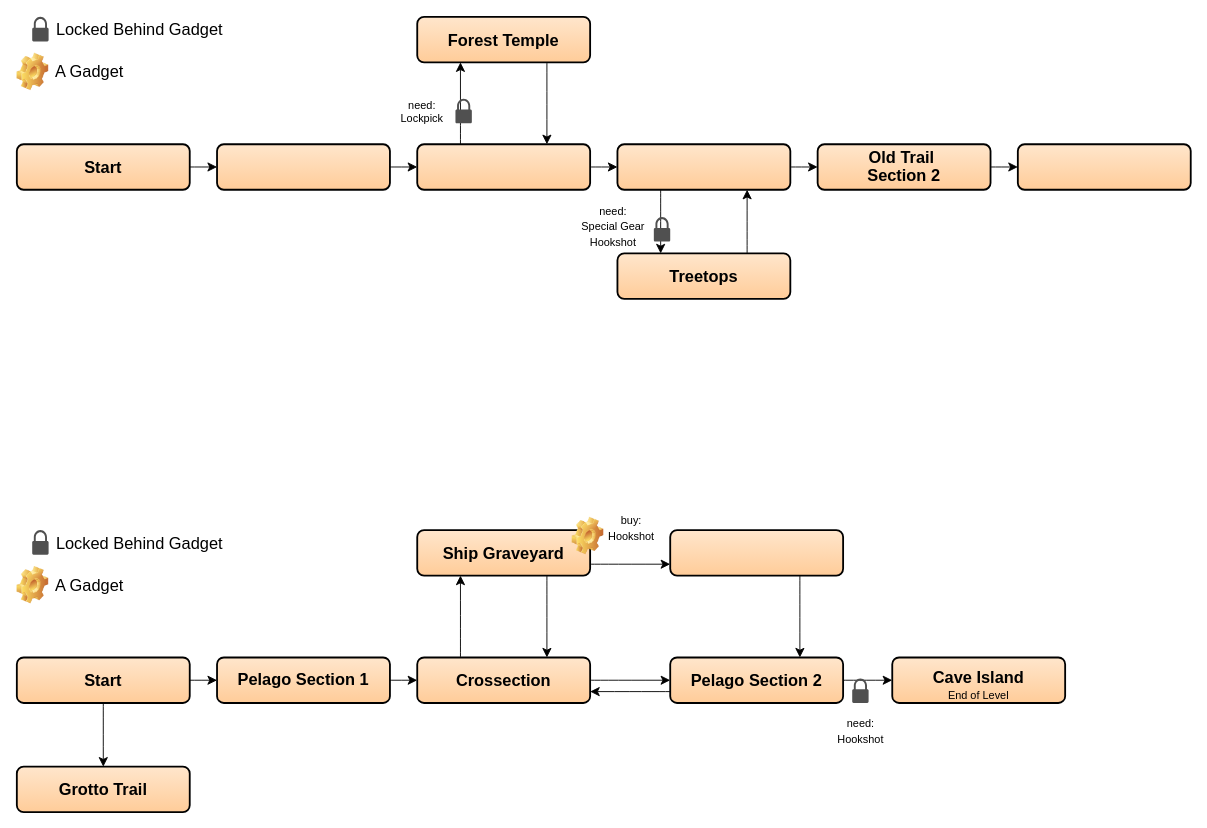
Some shapes in this 1207 by 828 pixel diagram are drawn without their labels. Each missing label, with the centre of its shape:
"Big Tree Treetop Zone Start" belongs at point 703,166.
"Boss End of Level" belongs at point 1103,166.
"Clearing" belongs at point 503,166.
"Old Trail Section 1" belongs at point 303,166.
"Ship Graveyard Shallow Water" belongs at point 756,552.
